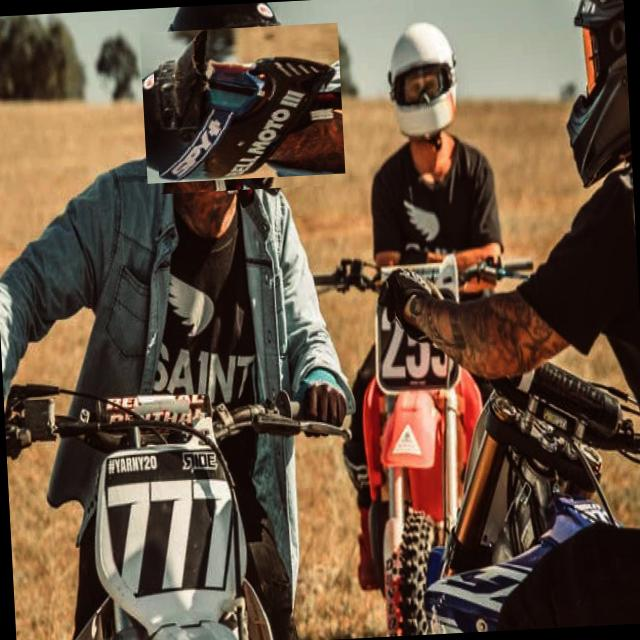Helmet: (151, 11, 335, 194), (384, 20, 460, 142)
